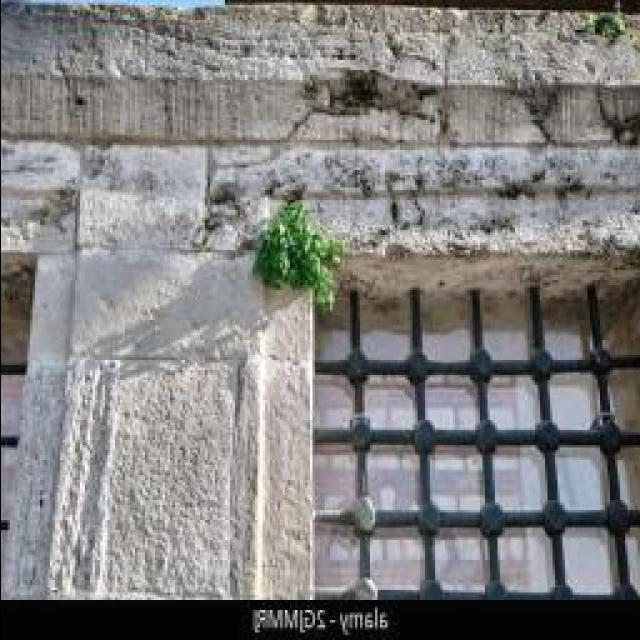corrosion: (23, 321, 307, 602)
crack: (2, 5, 635, 601), (11, 115, 635, 167), (64, 245, 268, 359), (256, 141, 637, 201), (43, 181, 88, 603), (327, 216, 640, 271), (57, 363, 125, 599), (71, 145, 212, 254), (176, 76, 313, 144), (3, 125, 291, 156), (505, 24, 640, 86), (290, 98, 445, 147), (435, 17, 546, 85), (404, 192, 549, 240), (6, 67, 101, 140), (102, 76, 203, 142), (23, 254, 76, 369), (203, 158, 280, 237), (2, 183, 80, 247), (3, 139, 84, 200), (300, 196, 407, 242), (1, 255, 38, 369), (64, 186, 84, 360), (1, 373, 25, 435)
dampness: (286, 78, 632, 152), (14, 1, 224, 36)
vegetation: (251, 199, 348, 313), (308, 69, 440, 124), (386, 175, 426, 228), (576, 9, 632, 43), (576, 11, 597, 31)
